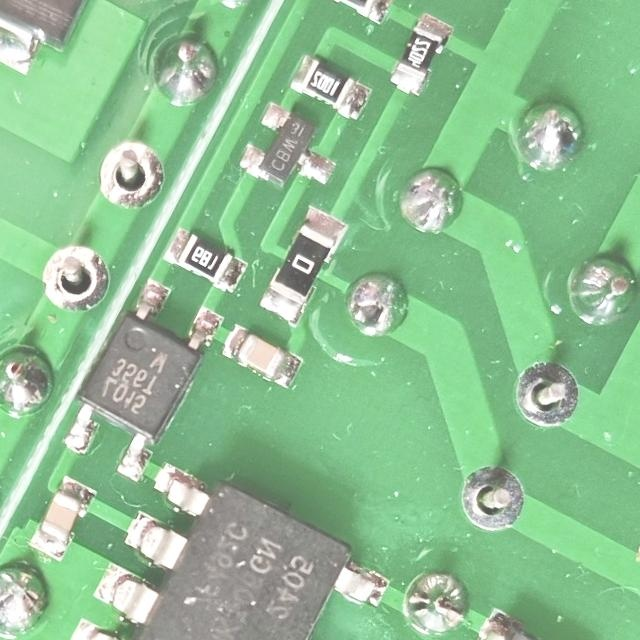chip-capacitor: (21, 469, 100, 566), (213, 317, 308, 394)
chip-resistor: (251, 200, 353, 330), (281, 48, 379, 128), (156, 220, 253, 300), (383, 7, 460, 101)
ic: (54, 441, 406, 640), (51, 267, 231, 489)
transistor: (227, 94, 353, 214)
